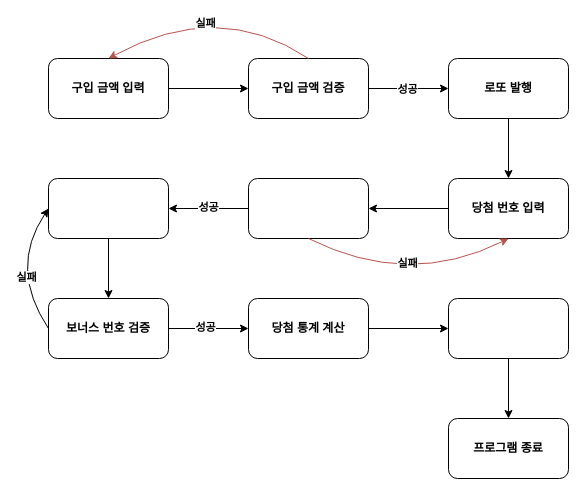
Some shapes in this 587 by 496 pixel diagram are drawn without their labels. The shapes that lost their labels are listed below. From the top down, each one's centre as x and y in pixels, then its label:
the point at 108,208: 보너스 번호 입력
the point at 308,208: 당첨 번호 검증
the point at 508,328: 당첨 통계 출력
